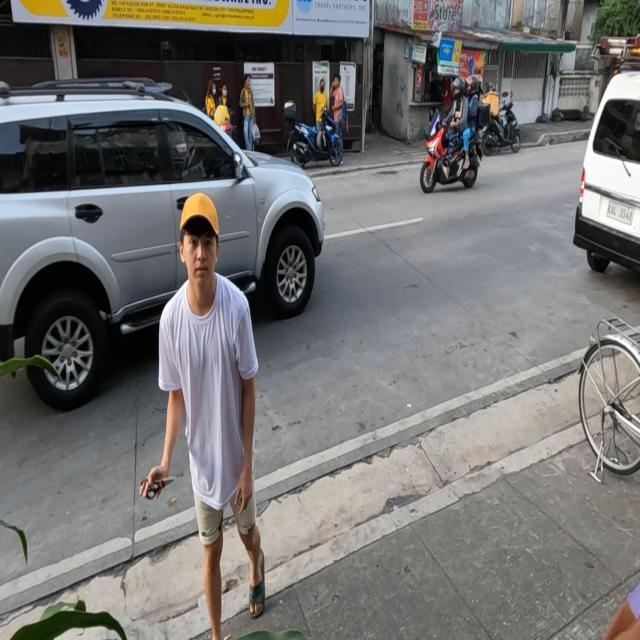scissor: (140, 475, 175, 501)
